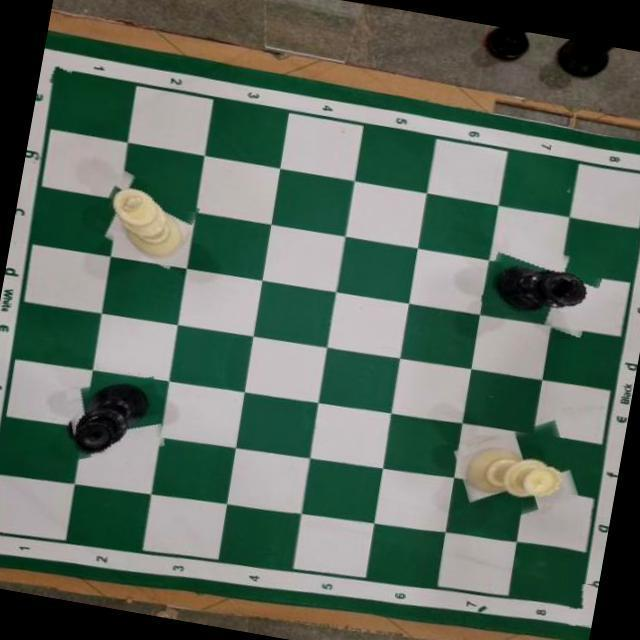chess-table-corners: (563, 581, 596, 628), (44, 50, 75, 88), (634, 157, 640, 189)
